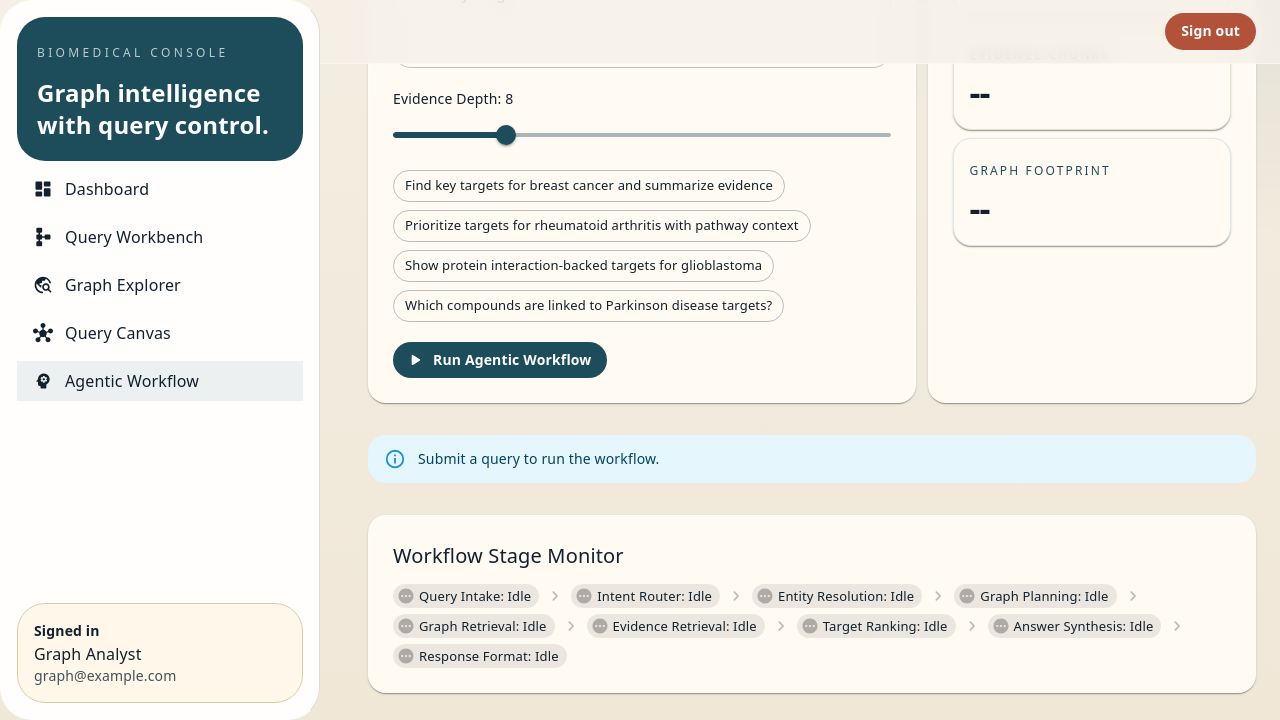
Test: agentic workflow tab executes and renders grounded response
(page scrolled)
Click the button "Run Agentic Workflow" at (500, 360), box left=393, top=342, right=608, bottom=378
(page scrolled)
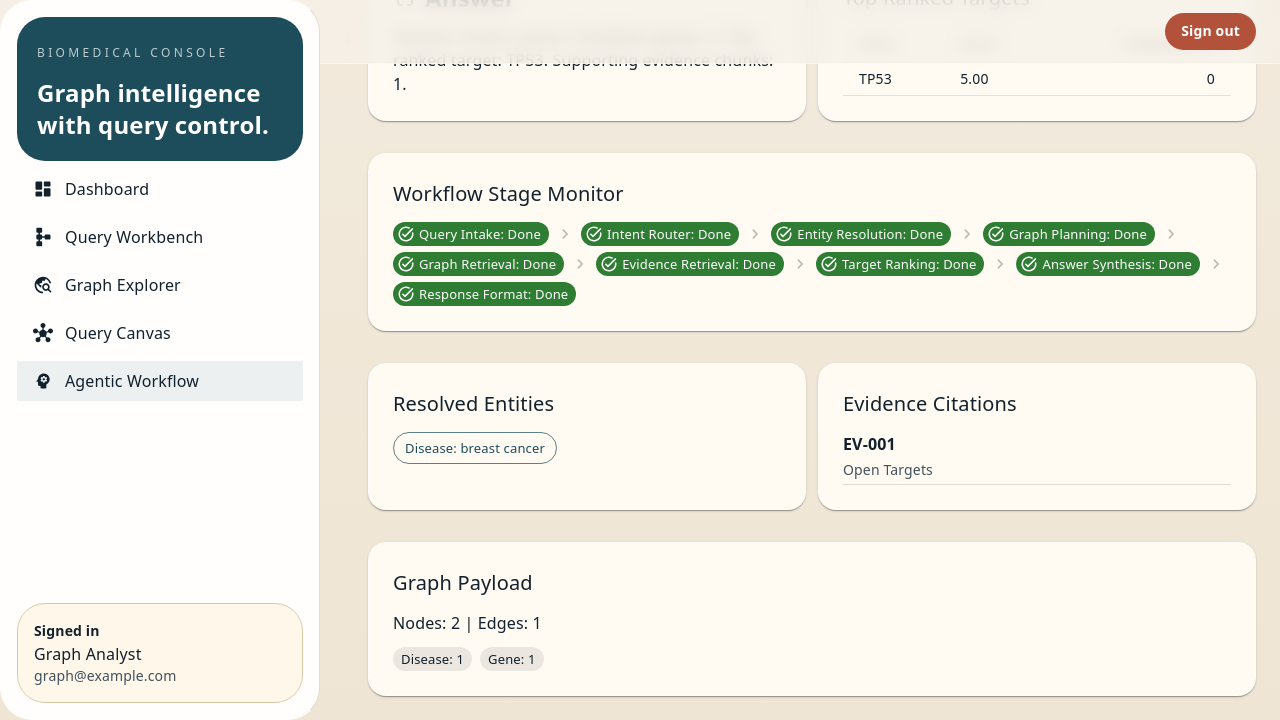
expect the text "Candidate genes: 2" is shown: met, box left=393, top=25, right=773, bottom=95
expect the text "EV-001" is shown: met, box left=843, top=433, right=896, bottom=455
expect the text "Nodes: 2 | Edges: 1" is shown: met, box left=393, top=612, right=542, bottom=634
